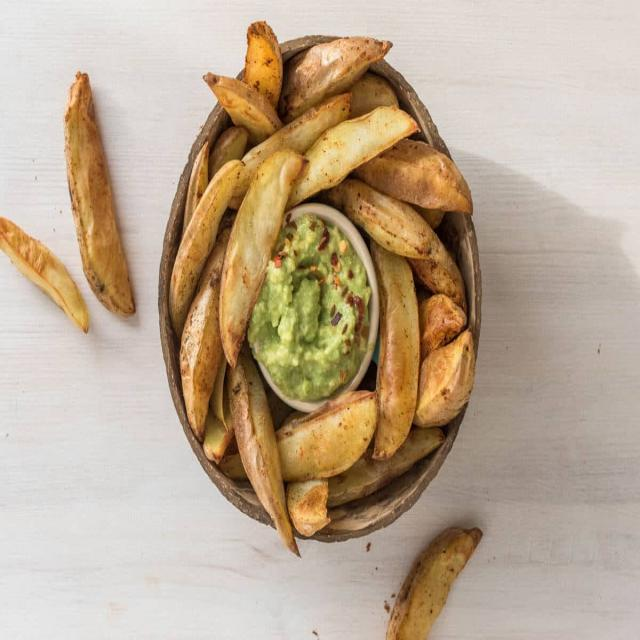aguacate: (248, 210, 382, 412)
papa: (156, 31, 497, 563), (59, 65, 144, 332)
